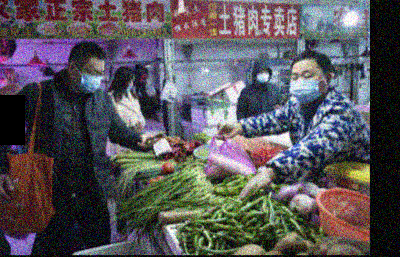mask_weared_incorrect: (126, 78, 134, 92)
with_mask: (288, 66, 325, 102), (76, 65, 105, 93), (255, 68, 269, 82)
